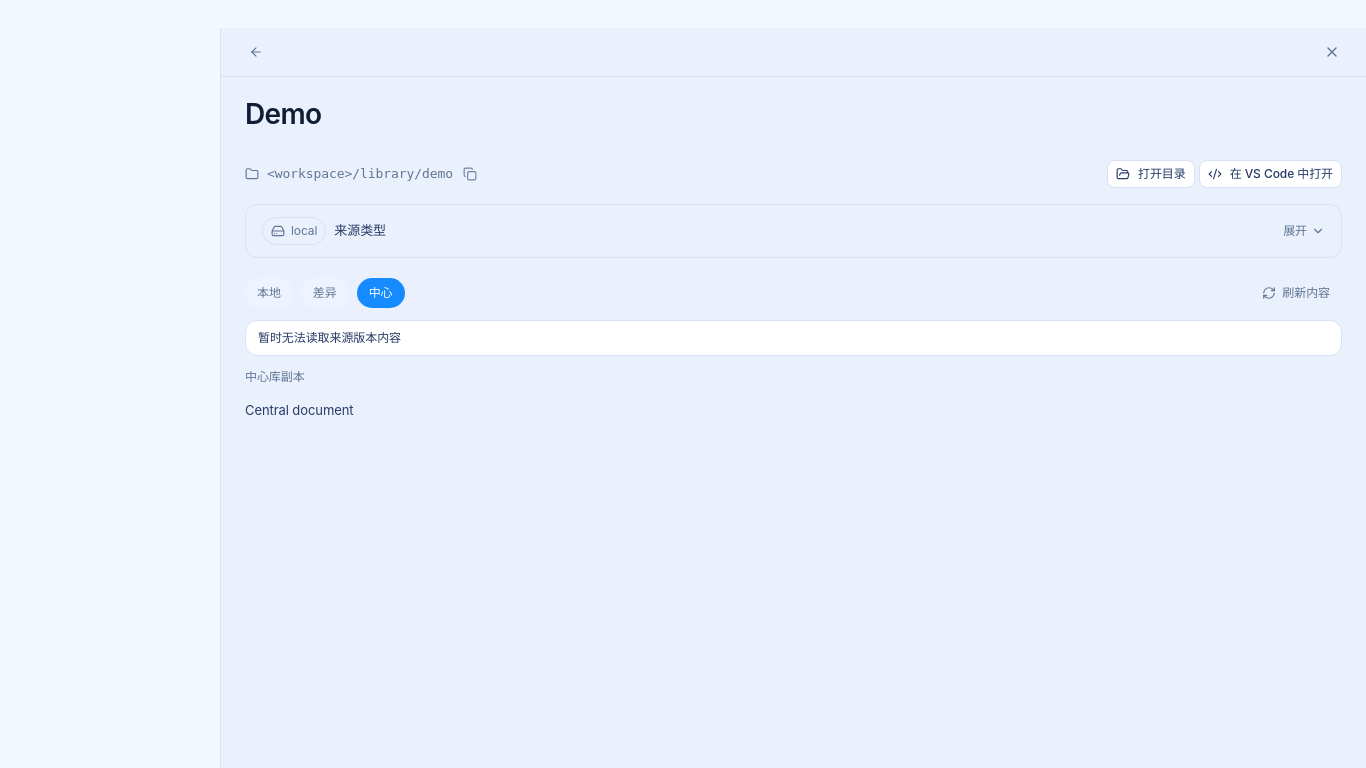
Scenario: retries failed comparisons and distinguishes errors from no changes
What coordinates should you click on to do the following:
click the tab "差异"
I would click on:
 (325, 293)
Its box is x1=301 y1=278 x2=349 y2=308.
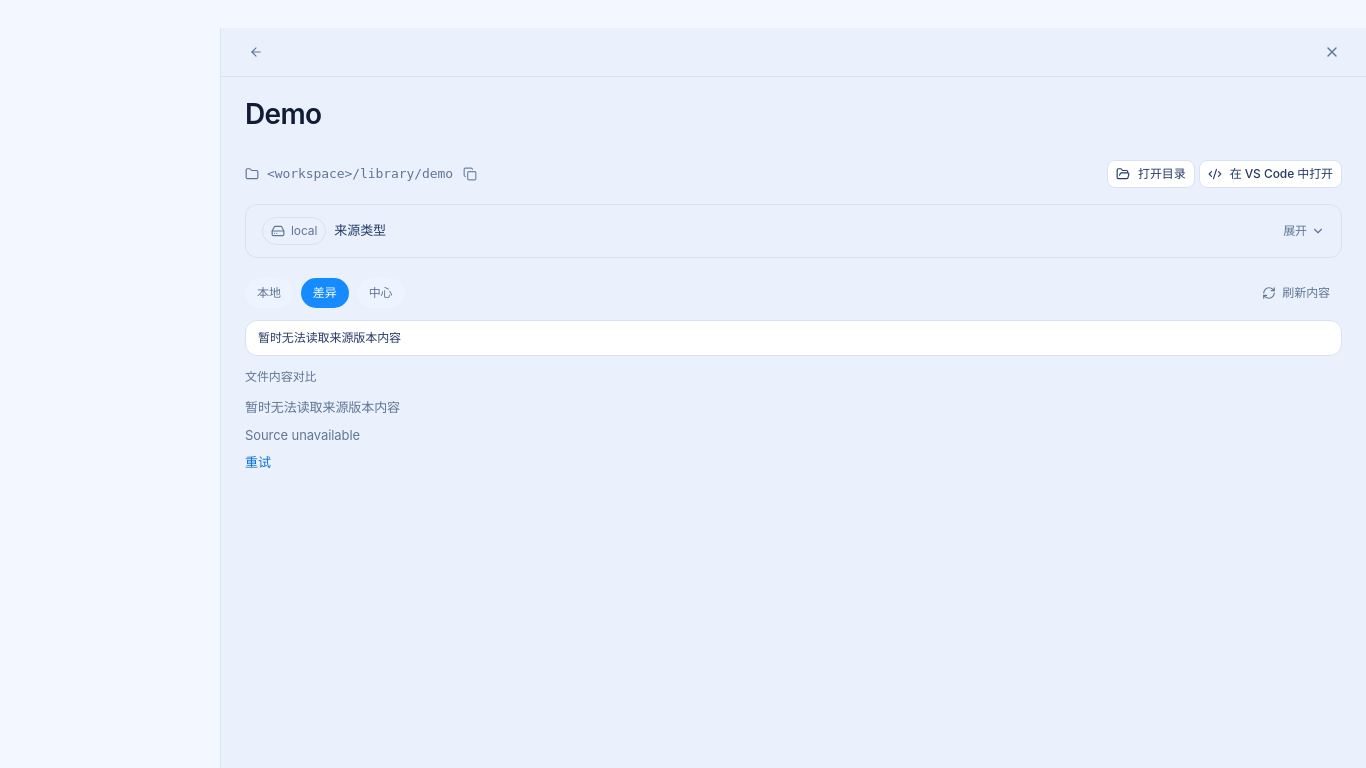
Check: the message "暂时无法读取来源版本内容 Source unavailable 重试" is shown, box x1=245 y1=399 x2=400 y2=472
Check: the button "重试" is shown
What coordinates should you click on to do the following:
click the button "重试"
I would click on:
 (258, 463)
Its box is x1=245 y1=453 x2=271 y2=472.
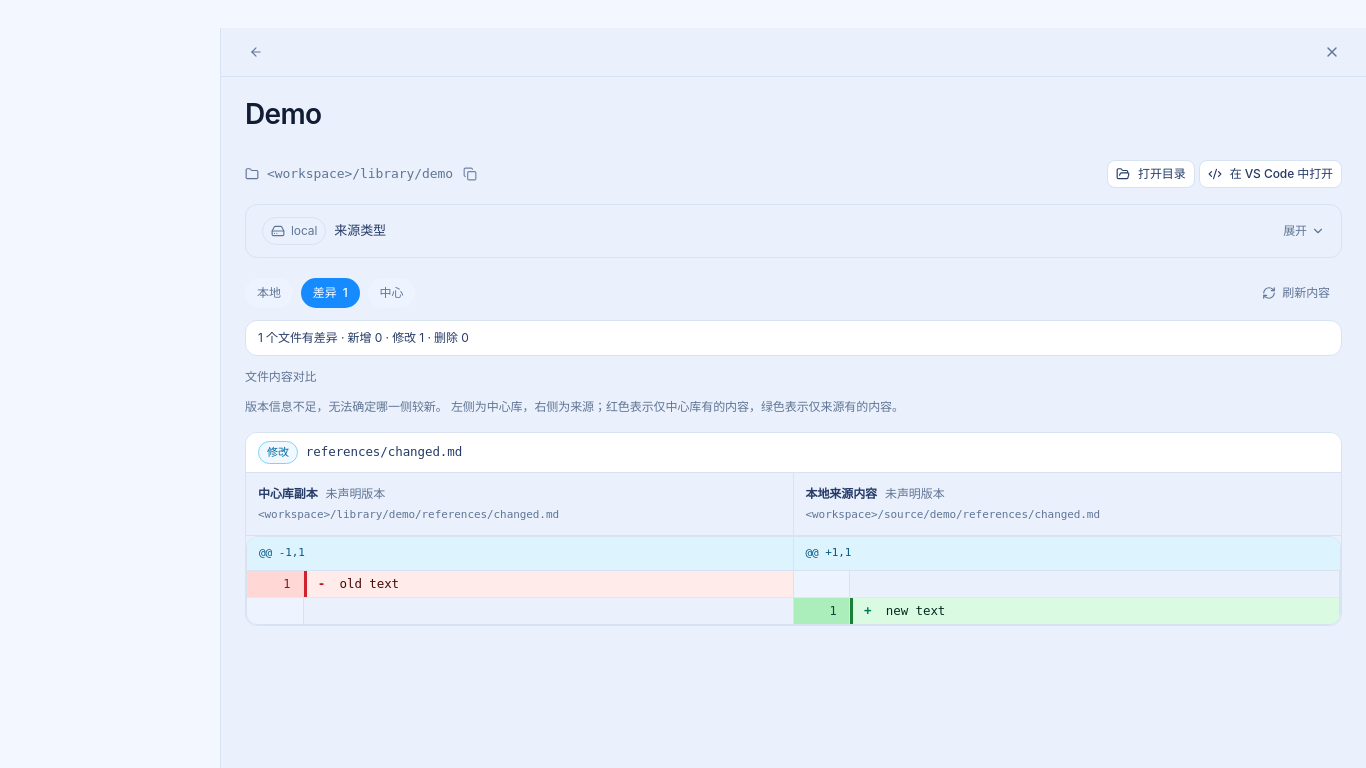
Check: the text "references/changed.md" is shown, box x1=306 y1=444 x2=462 y2=459
